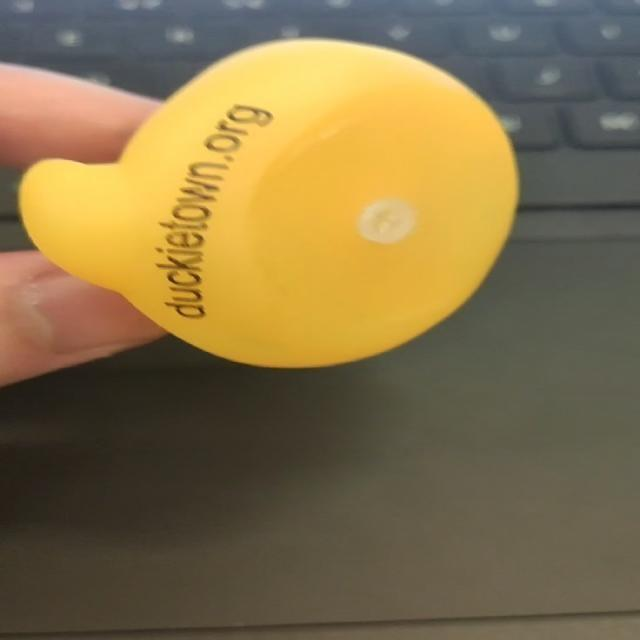rubber-duck: (19, 39, 516, 365)
